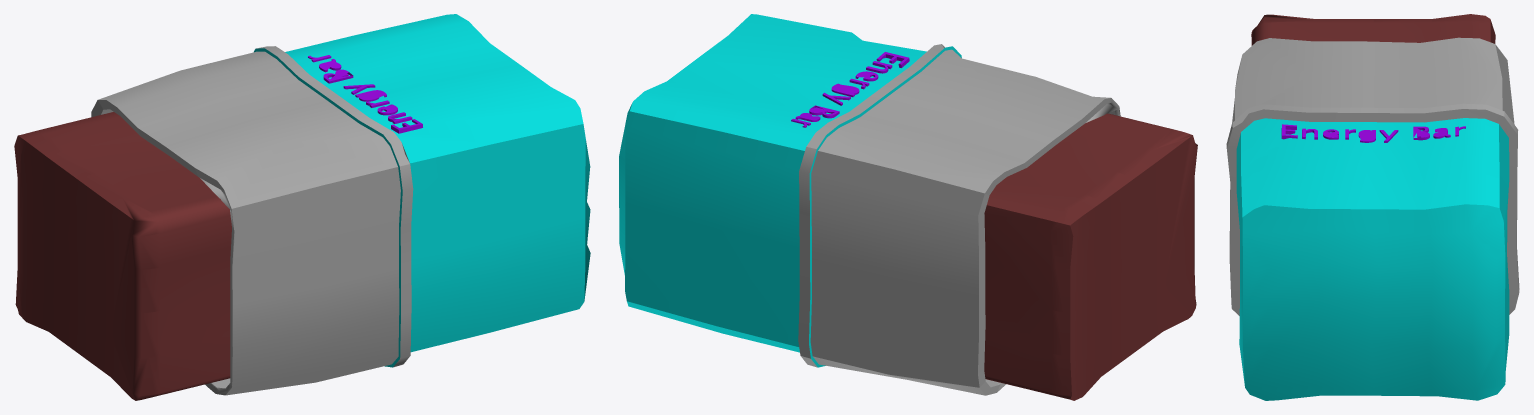
File: chocobarLP.fbx
3 renders of one model, left to right at view 1: azimuth 30°, elevation 25°; view 2: azimuth 150°, elevation 25°; view 3: azimuth 270°, elevation 25°, orthographic. The views are drawn at different scales.
Visible parts, largest first — view 1: polySurface3, polySurface2, typeMesh1; view 2: polySurface3, polySurface2, typeMesh1; view 3: polySurface3, polySurface2, typeMesh1.
Part boxes in pixels (box(x1,y1,x2,y2)): polySurface3: box(91, 14, 590, 395); polySurface2: box(14, 112, 231, 400); typeMesh1: box(308, 55, 422, 133); polySurface3: box(619, 14, 1120, 395); polySurface2: box(984, 113, 1197, 400); typeMesh1: box(791, 52, 909, 127); polySurface3: box(1226, 37, 1519, 400); polySurface2: box(1251, 14, 1495, 45); typeMesh1: box(1281, 124, 1465, 142).
Bounding box in the file's own units: 3.07 × 1.49 × 1.8.
